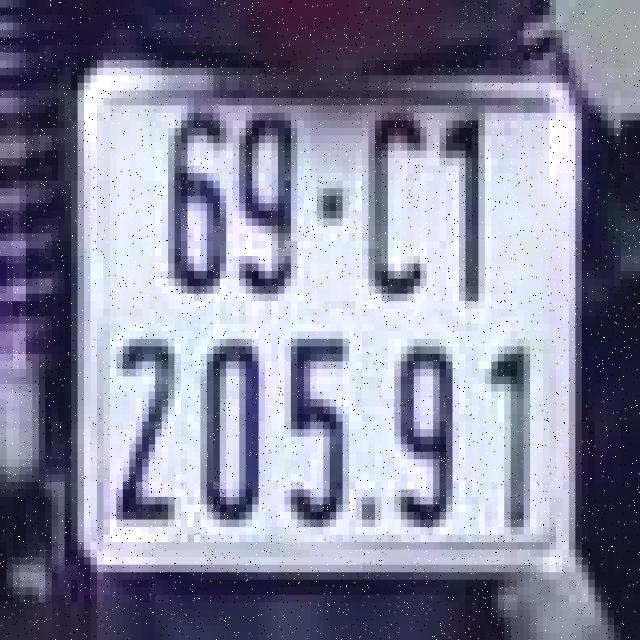0: (197, 323, 268, 534)
1: (436, 106, 501, 316), (482, 331, 546, 542)
2: (110, 323, 187, 534)
5: (278, 323, 362, 534)
6: (165, 90, 229, 316)
9: (382, 323, 466, 534), (233, 105, 297, 309)
C: (346, 106, 436, 316)
